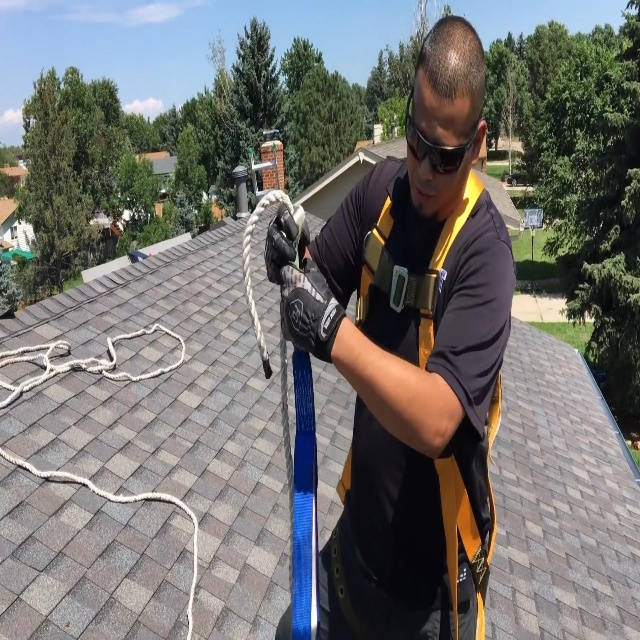Arnes_seguridad: (310, 123, 515, 640)
